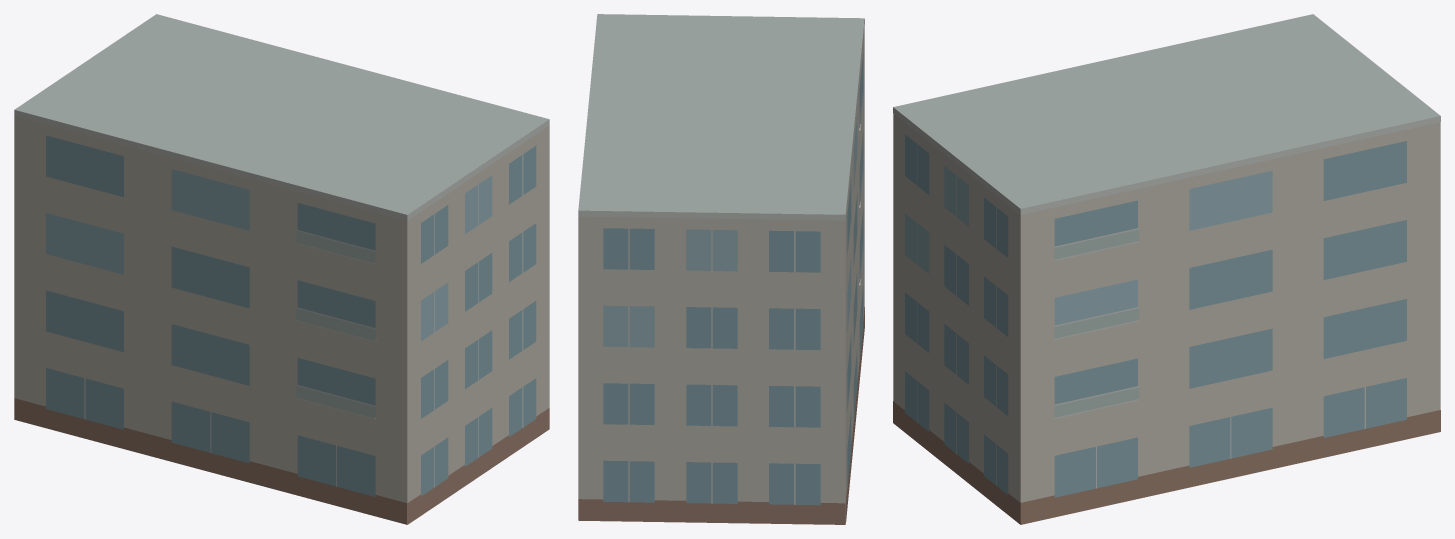
The model's file is survey-upis-33019274.glb.
3 renders of one model, left to right at view 1: azimuth 30°, elevation 25°; view 2: azimuth 150°, elevation 25°; view 3: azimuth 270°, elevation 25°, orthographic.
Parts seen in each view (by area): view 1: survey-upis-33019274.tmp; view 2: survey-upis-33019274.tmp; view 3: survey-upis-33019274.tmp.
Boxes of the visible parts, x1,y1,x2,y2 form: survey-upis-33019274.tmp: (14,14,549,524); survey-upis-33019274.tmp: (578,14,864,524); survey-upis-33019274.tmp: (893,14,1440,524).
Size of the model in its own units: 16.81 by 12.7 by 19.96.
